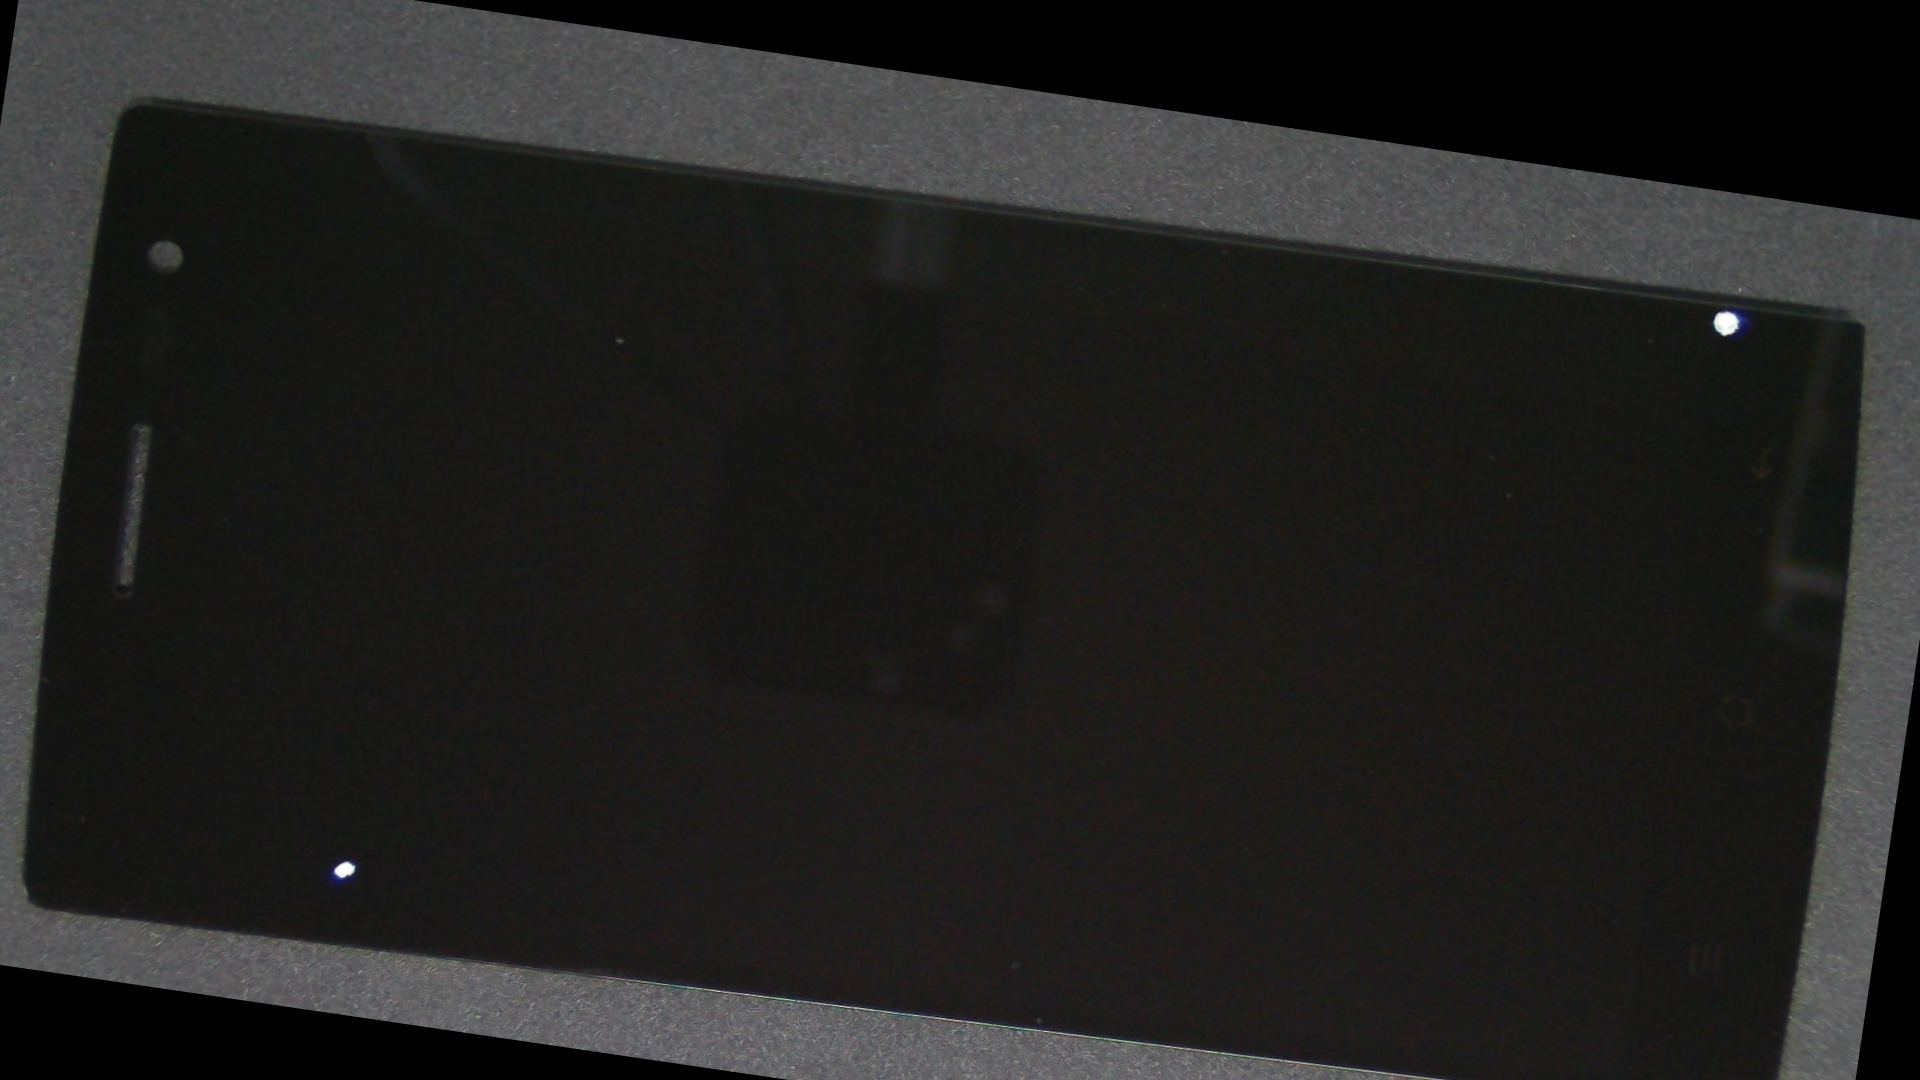oil: (105, 401, 637, 1046), (858, 127, 1920, 404)
